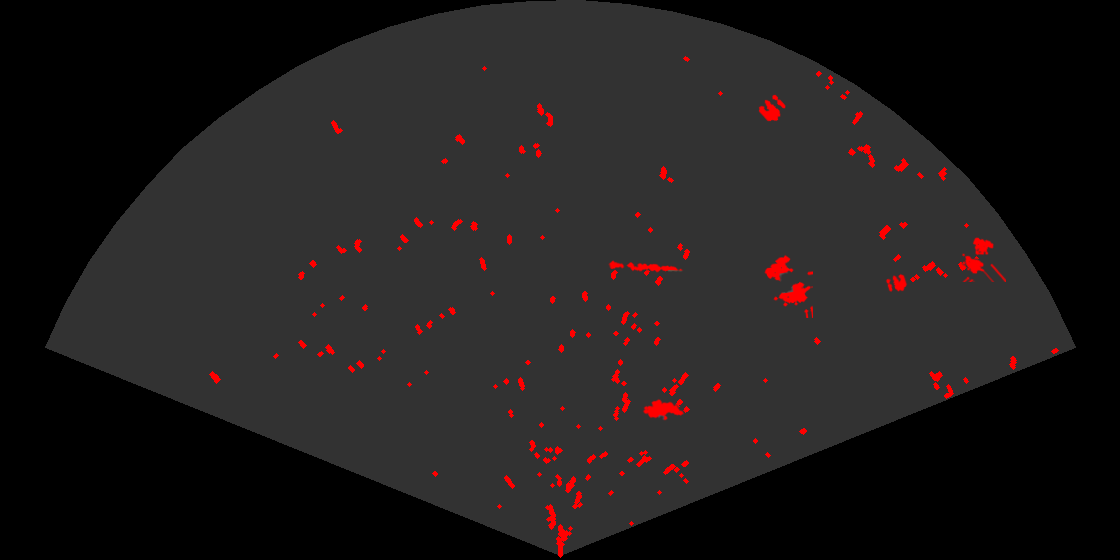AUV: (641, 397, 686, 422)
ball: (757, 93, 787, 123), (884, 272, 909, 293)
cage: (763, 253, 813, 318), (960, 236, 1006, 282)
chain: (608, 259, 684, 274)
